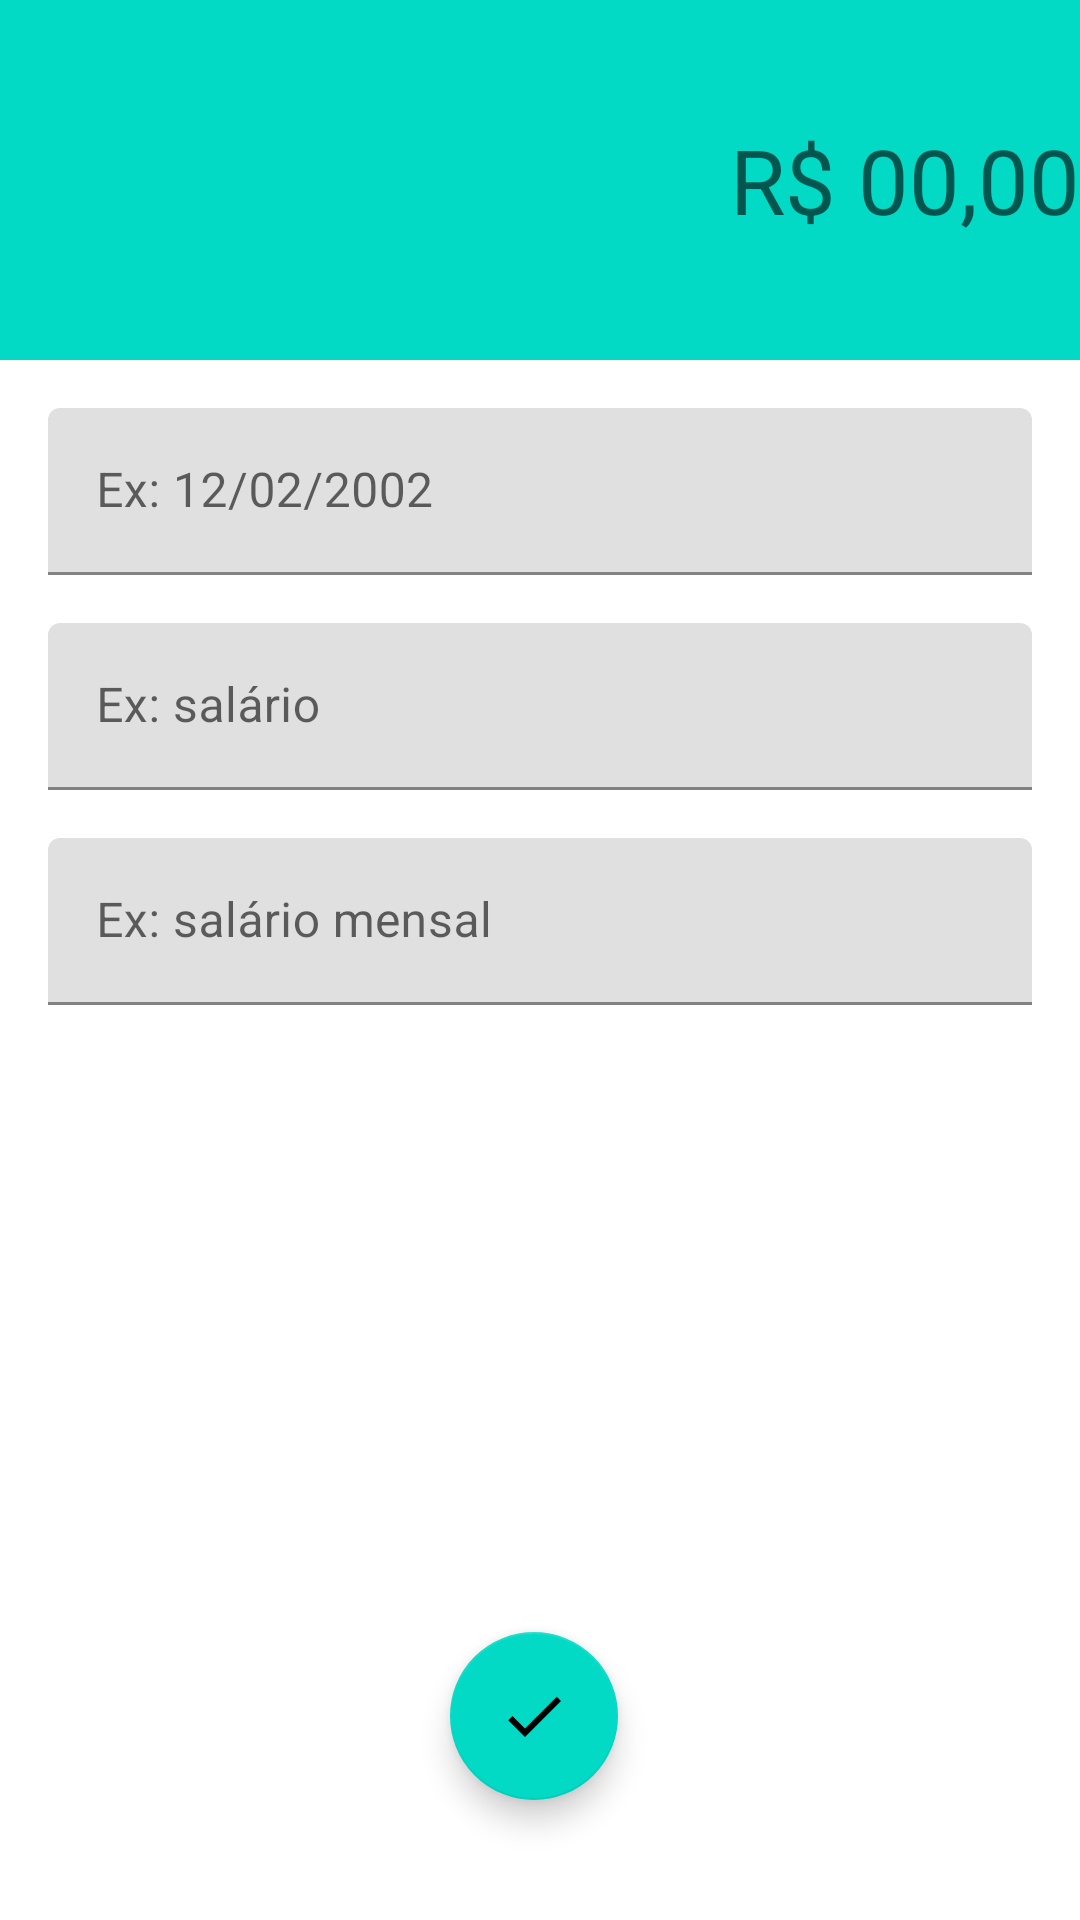

Point at icon controls on the screen. Image size 1080 × 1920, points as point (x, y).
check: point (534, 1716)
